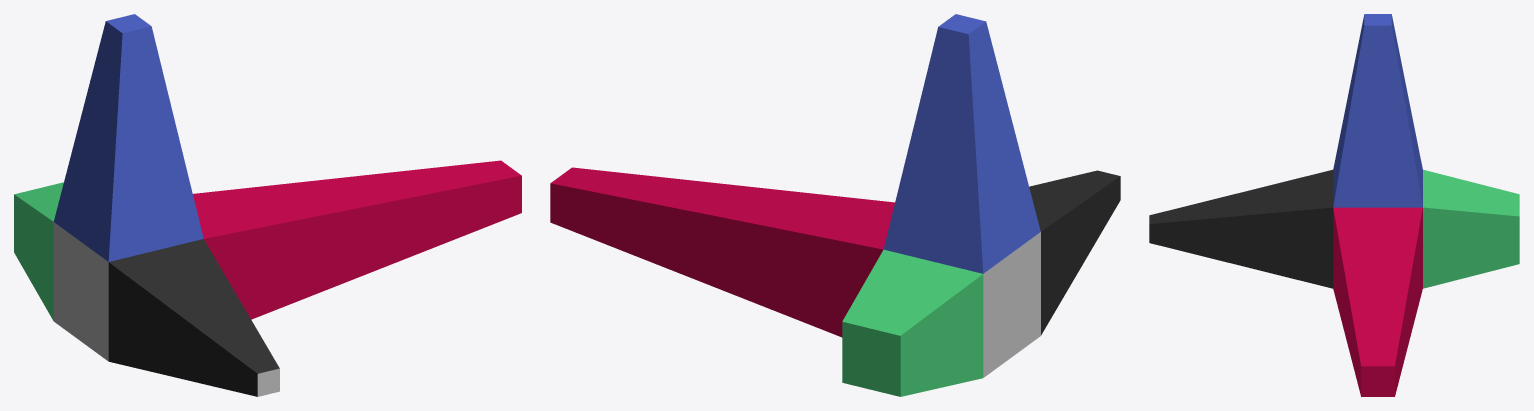
Rendered from cur_fbx.fbx.
The picture shows the model from 3 angles, left to right: view 1: azimuth 30°, elevation 25°; view 2: azimuth 150°, elevation 25°; view 3: azimuth 270°, elevation 25°; orthographic projection. The views are drawn at different scales.
Parts seen in each view (by area): view 1: cur; view 2: cur; view 3: cur.
Boxes of the visible parts, x1,y1,x2,y2 form: cur: [14, 14, 521, 396]; cur: [550, 14, 1120, 396]; cur: [1149, 14, 1519, 396].
Size of the model in its own units: 905 by 615 by 826.
